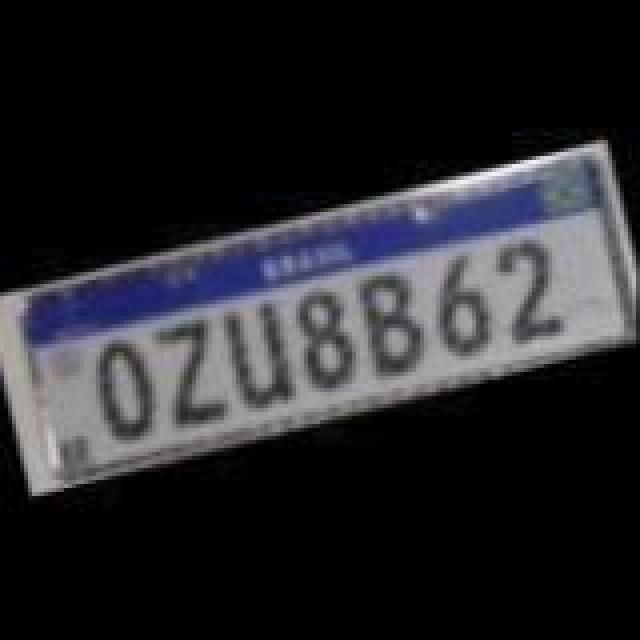2: (478, 228, 574, 348)
6: (414, 244, 510, 364)
8: (286, 278, 382, 398)
B: (342, 264, 438, 384)
O: (78, 332, 170, 444)
U: (214, 290, 310, 418)
Z: (144, 314, 236, 430)
